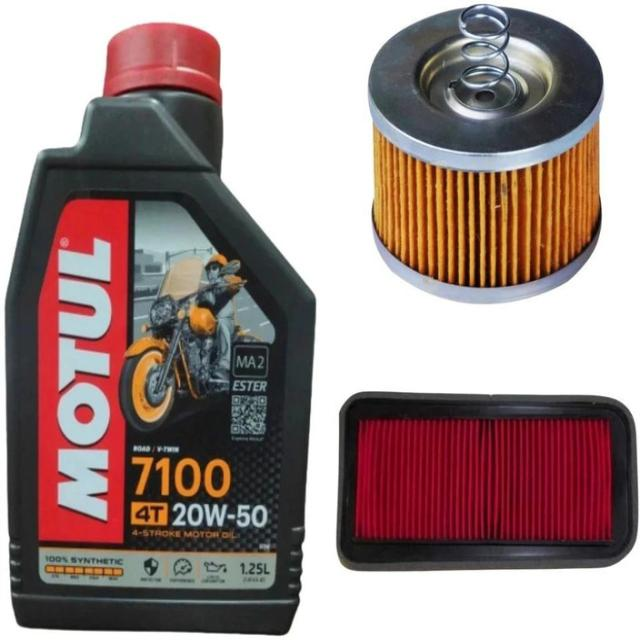air_filter: (336, 396, 639, 578)
motor_oil: (0, 20, 318, 640)
oil_filter: (365, 0, 613, 308)
